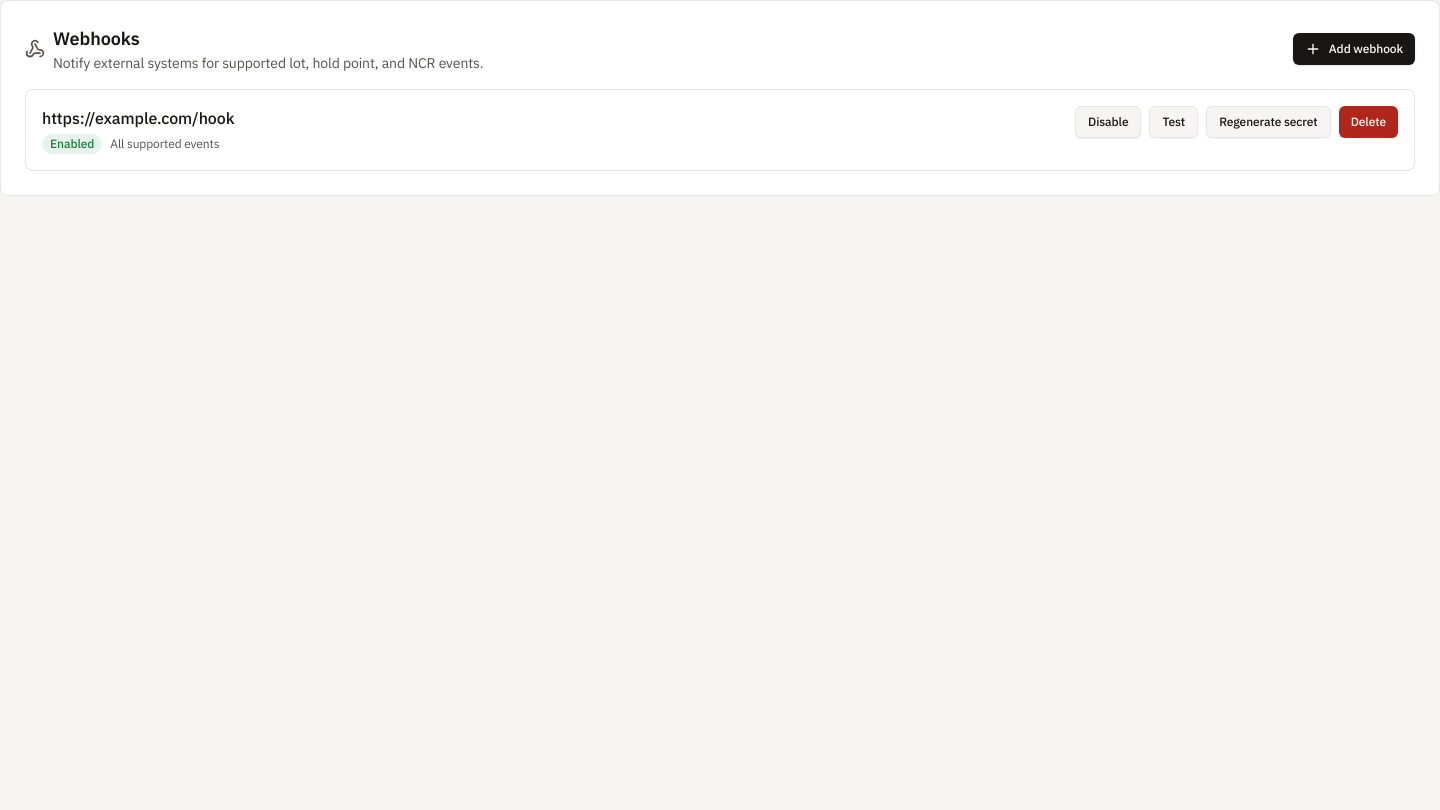
Test: CompanyWebhooksSection › requires confirmation before regenerating the signing secret and reveals it
The width and height of the screenshot is (1440, 810).
Expected: the text "https://example.com/hook" is shown, [42,108,234,128]
Click the button "Regenerate secret" at (1268, 122), box [1206,106,1331,138]
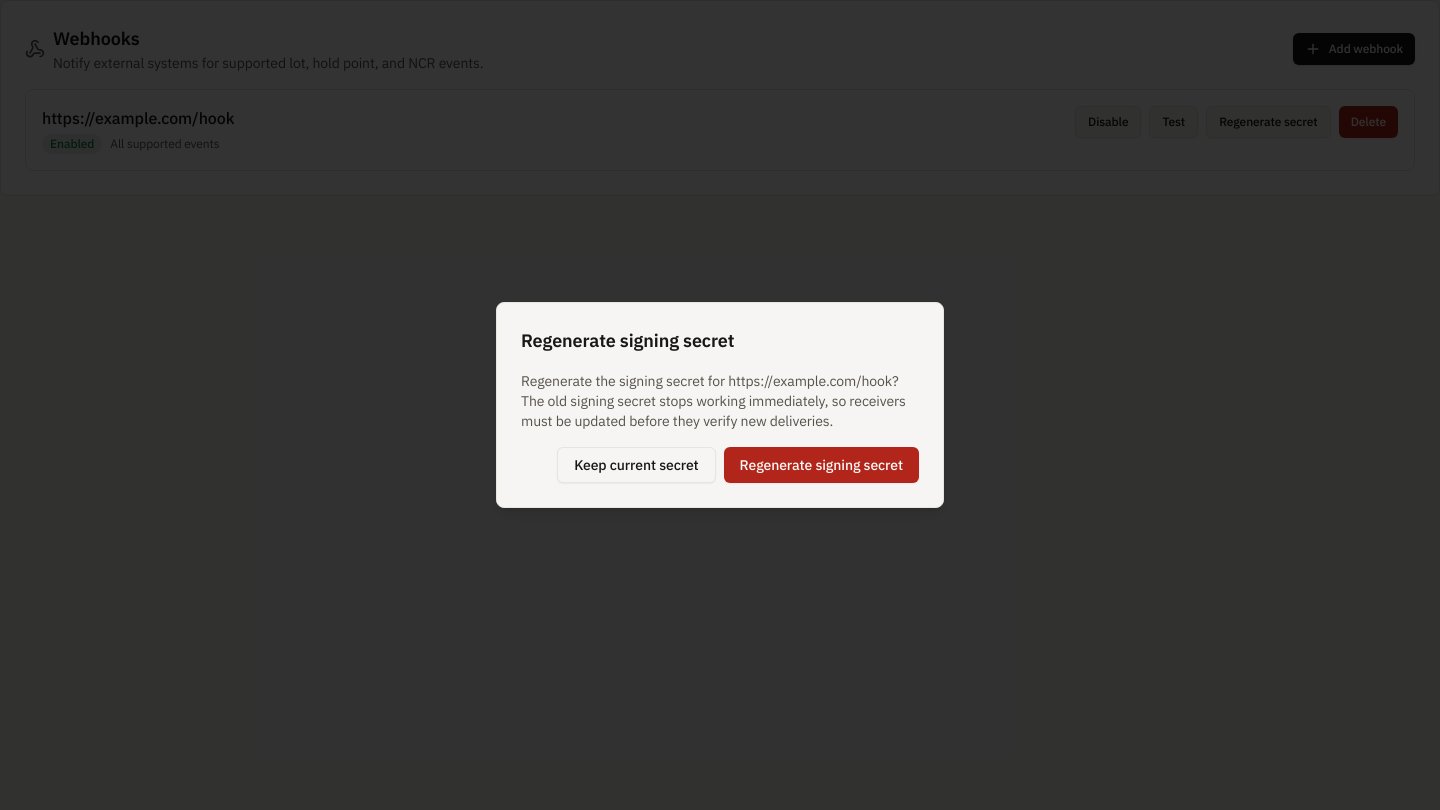
Now the text "old signing secret stops working" is shown, box [521,372,906,430]
Click the button "Keep current secret" at (636, 465), box [557,447,716,483]
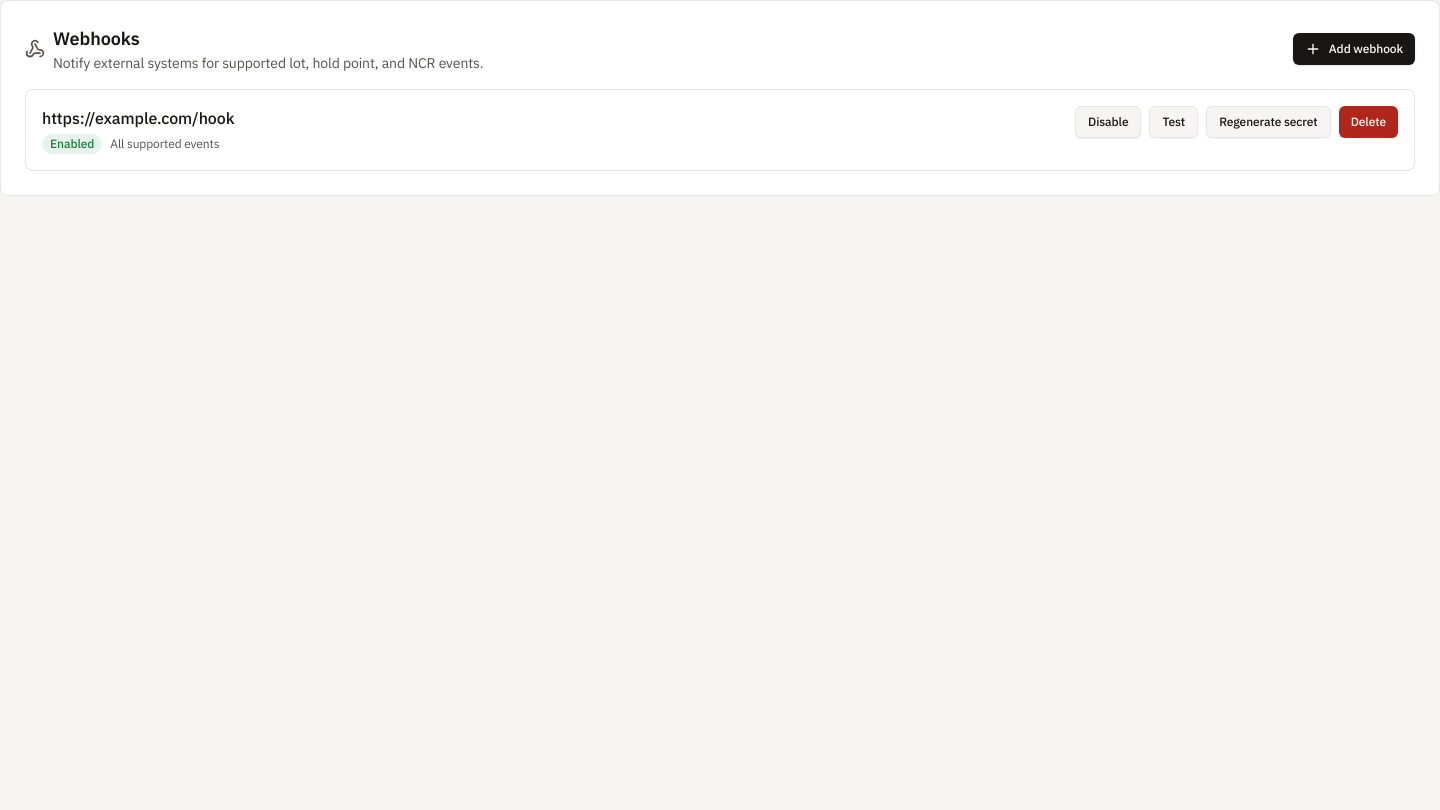
Now the text "old signing secret stops working" is gone
Click the button "Regenerate secret" at (1268, 122), box [1206,106,1331,138]
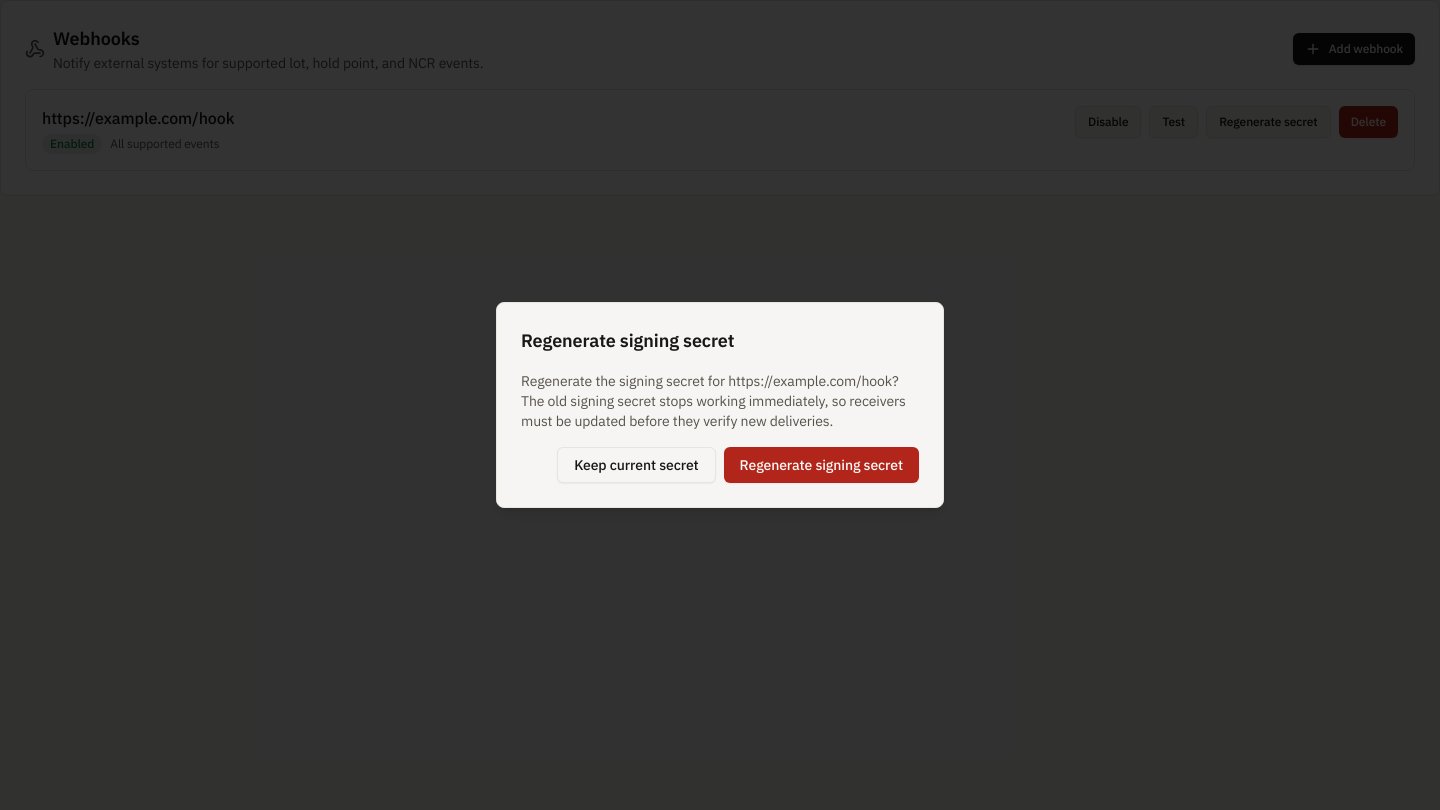
Click the button "Regenerate signing secret" at (821, 465), box [724,447,919,483]
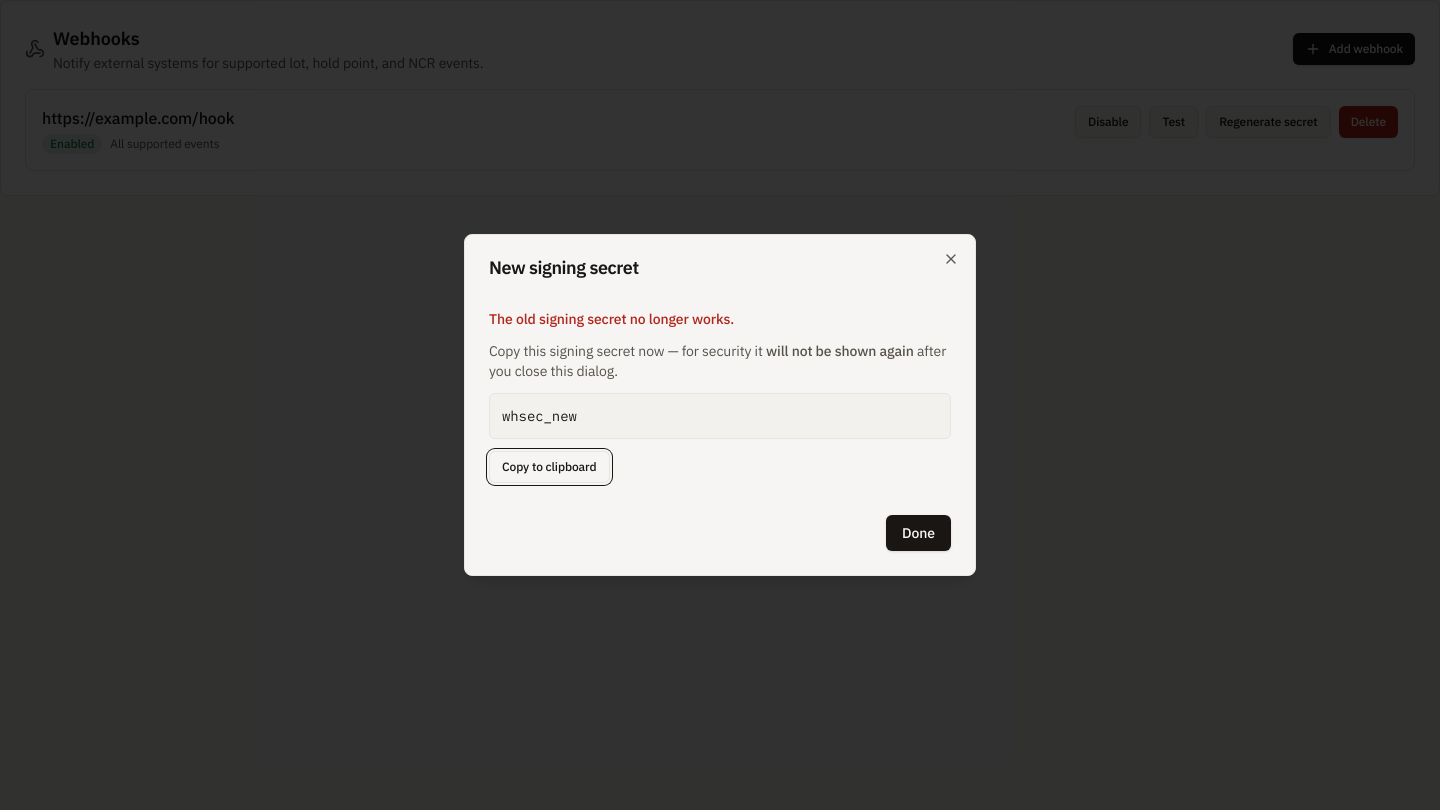
Now the text "whsec_new" is shown, box [489,393,951,439]
Now the text "The old signing secret no longer works." is shown, box [489,310,734,328]
